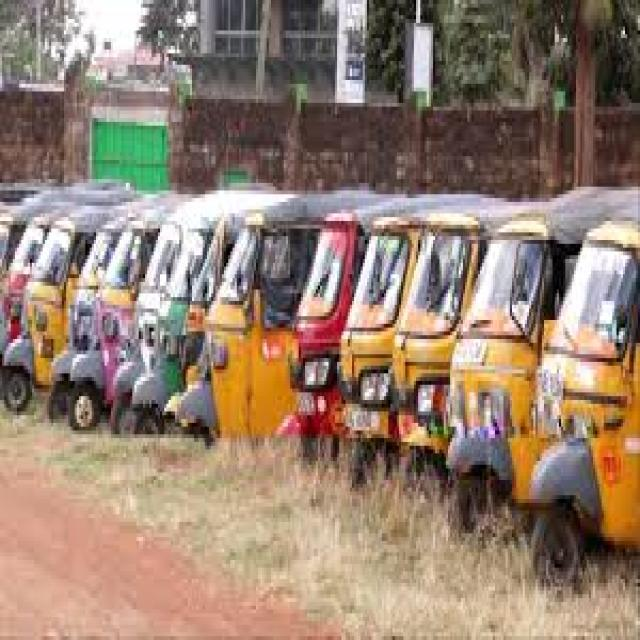tuktuk: (521, 110, 640, 630)
